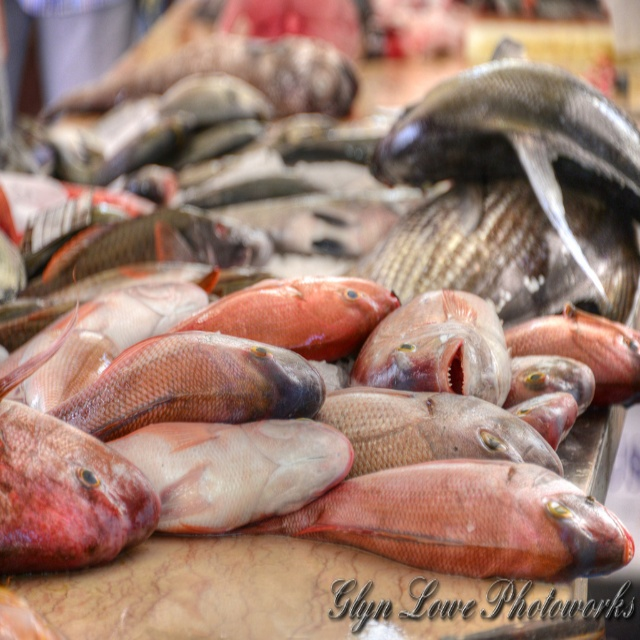Fish: (0, 0, 639, 585)
